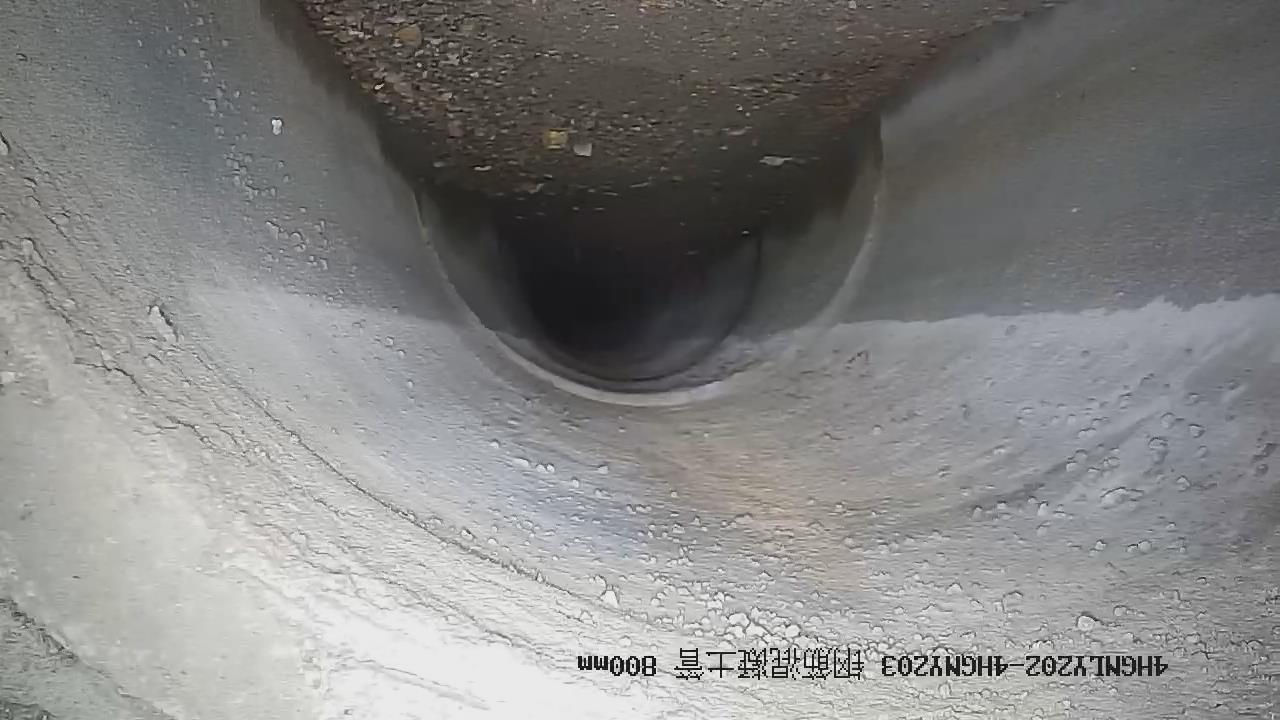CJ: (300, 1, 1056, 338)
CKTJ: (427, 172, 887, 404)
